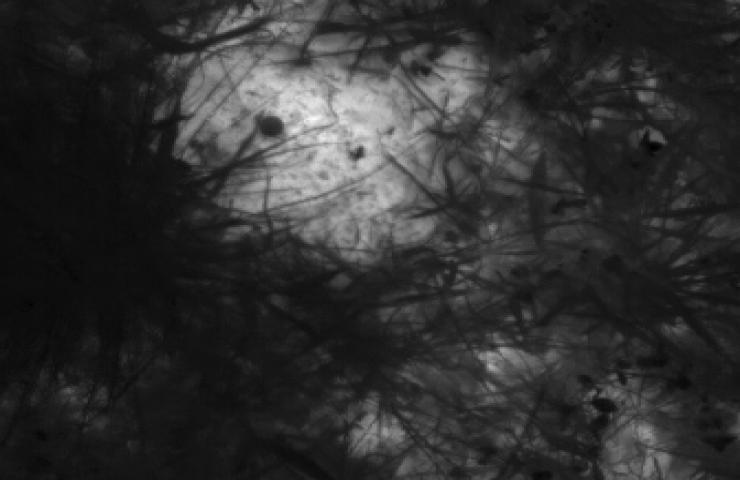landmines: (153, 4, 535, 273)
